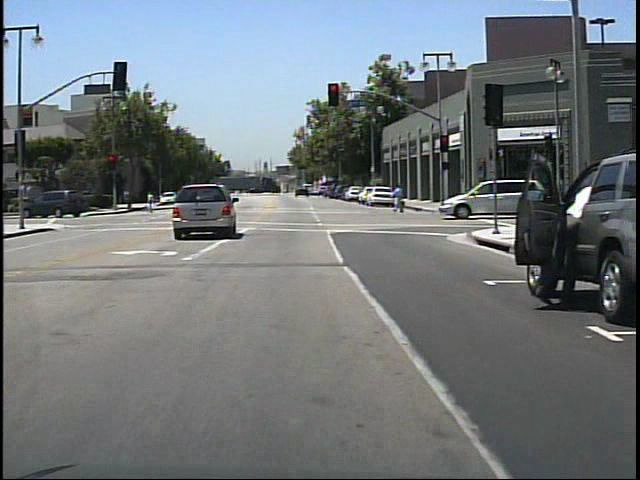person: (528, 159, 590, 307), (391, 182, 411, 218), (146, 189, 161, 217)
